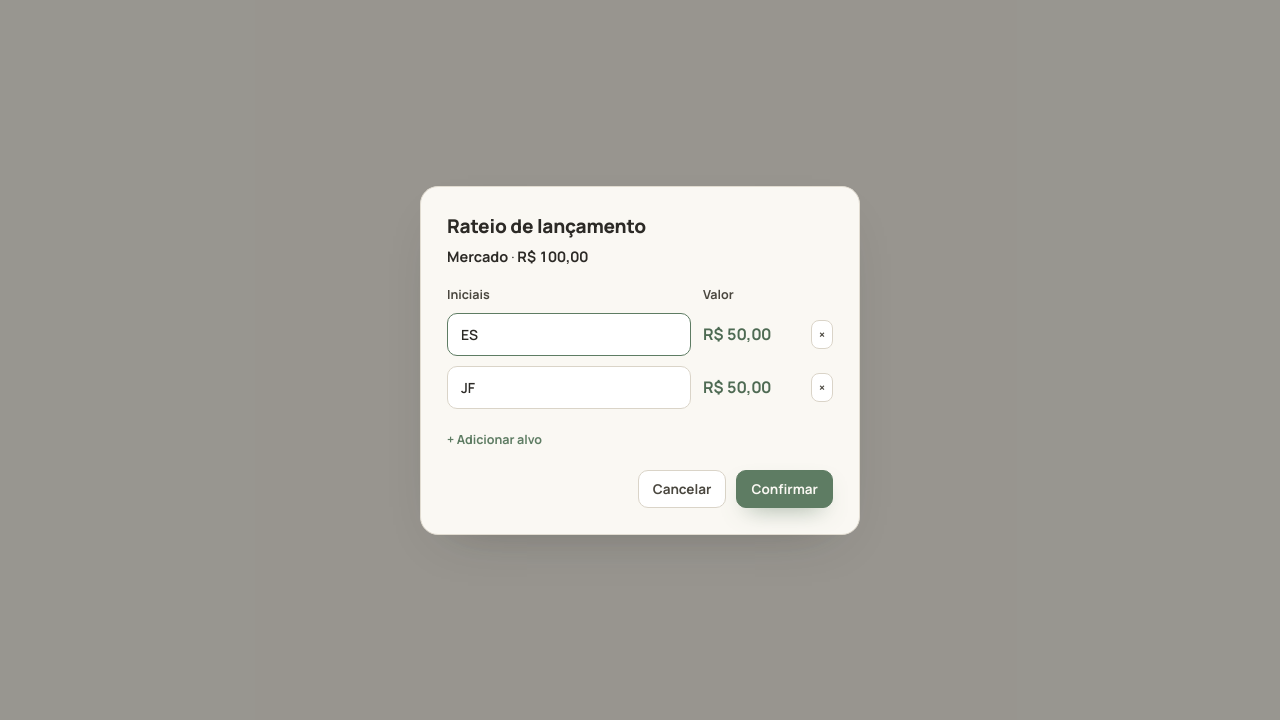
Test case: SplitModal — edição de alvos › TL-06: botão de remover exclui o alvo correspondente da lista
This screenshot has width=1280, height=720.
expect the number of fields is 2: met, box [447, 312, 691, 356]; [447, 366, 691, 408]
Remover o primeiro alvo (botão "Remover alvo 1")
Click the button named "Remover alvo 1": click(822, 334) [811, 320, 833, 348]
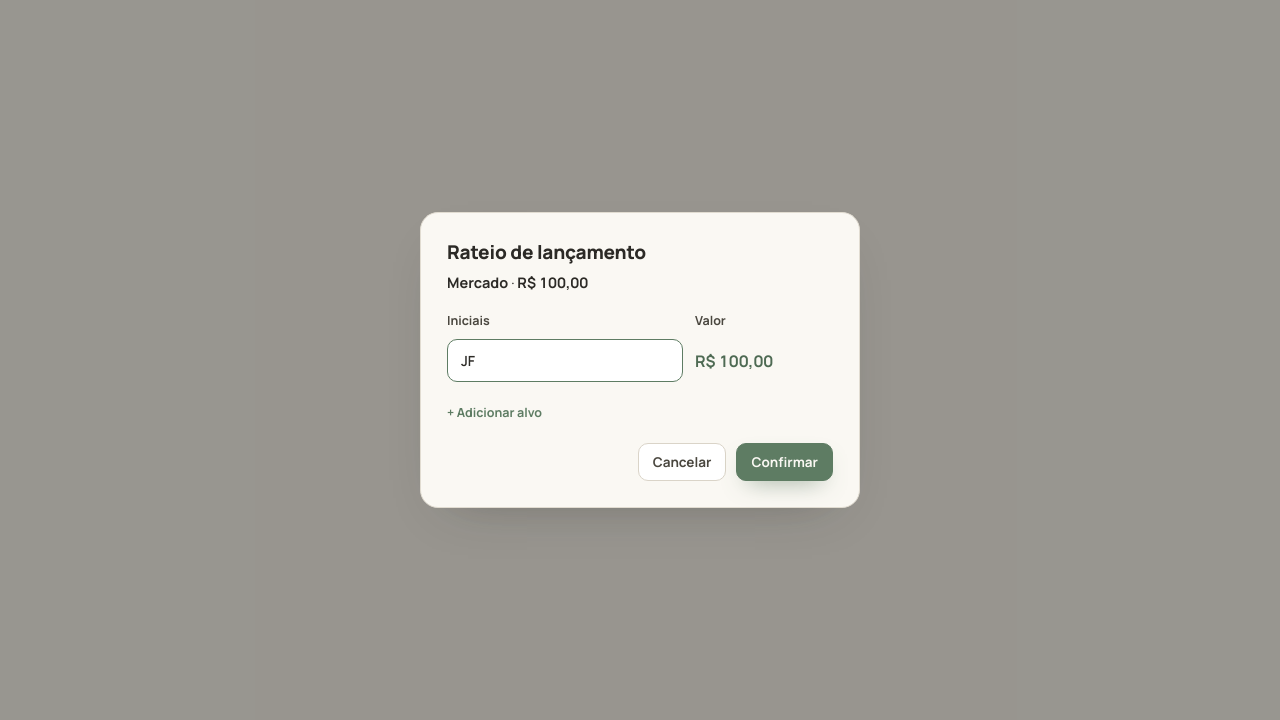
expect the number of fields is 1: met, box [447, 339, 683, 382]
